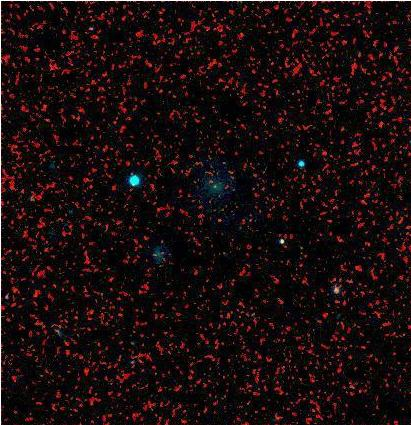star: (203, 201, 233, 231)
